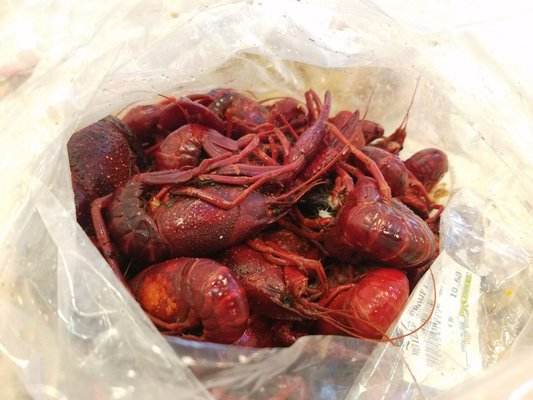burger: (64, 82, 464, 351)
